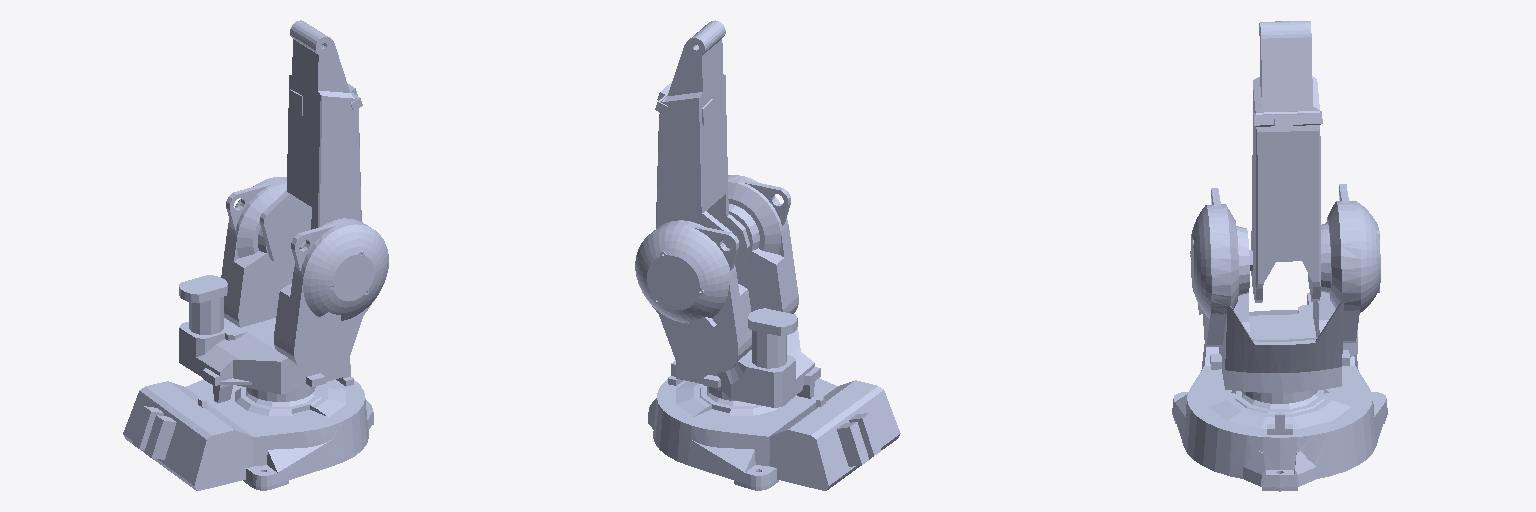
The robot description file, URDF, robot "Exp4a":
<?xml version="1.0" encoding="utf-8"?>
<!-- This URDF was automatically created by SolidWorks to URDF Exporter! Originally created by [author] ([email redacted]) 
     Commit Version: 1.5.1-0-g916b5db  Build Version: 1.5.7152.31018
     For more information, please see http://wiki.ros.org/sw_urdf_exporter -->
<robot
  name="Exp4a">
  <link
    name="base_link">
    <inertial>
      <origin
        xyz="-0.0942482366980368 0.00034841181543606 0.0698252025045274"
        rpy="0 0 0" />
      <mass
        value="45.100751124013" />
      <inertia
        ixx="0.904395771792202"
        ixy="0.00553474911760541"
        ixz="0.02398152767563"
        iyy="1.65416974621034"
        iyz="-0.000559853203844208"
        izz="2.38903477327703" />
    </inertial>
    <visual>
      <origin
        xyz="0 0 0"
        rpy="0 0 0" />
      <geometry>
        <mesh
          filename="package://Exp4a/meshes/base_link.STL" />
      </geometry>
      <material
        name="">
        <color
          rgba="0.792156862745098 0.819607843137255 0.933333333333333 1" />
      </material>
    </visual>
    <collision>
      <origin
        xyz="0 0 0"
        rpy="0 0 0" />
      <geometry>
        <mesh
          filename="package://Exp4a/meshes/base_link.STL" />
      </geometry>
    </collision>
  </link>
  <link
    name="Swivel">
    <inertial>
      <origin
        xyz="0.0338387160019819 0.0183002939600045 0.274868903694973"
        rpy="0 0 0" />
      <mass
        value="47.9939858945412" />
      <inertia
        ixx="2.26462021835913"
        ixy="0.104482896195246"
        ixz="-0.357348245737225"
        iyy="1.75194669684452"
        iyz="0.0193195705611302"
        izz="1.63365848320273" />
    </inertial>
    <visual>
      <origin
        xyz="0 0 0"
        rpy="0 0 0" />
      <geometry>
        <mesh
          filename="package://Exp4a/meshes/Swivel.STL" />
      </geometry>
      <material
        name="">
        <color
          rgba="0.792156862745098 0.819607843137255 0.933333333333333 1" />
      </material>
    </visual>
    <collision>
      <origin
        xyz="0 0 0"
        rpy="0 0 0" />
      <geometry>
        <mesh
          filename="package://Exp4a/meshes/Swivel.STL" />
      </geometry>
    </collision>
  </link>
  <joint
    name="Joint1"
    type="continuous">
    <origin
      xyz="0 0 0.164"
      rpy="0 0 0.068596" />
    <parent
      link="base_link" />
    <child
      link="Swivel" />
    <axis
      xyz="0 0 1" />
    <!-- <limit
      lower="-2.3562"
      upper="2.3562"
      effort="10"
      velocity="2.618" /> -->
  </joint>
  <link
    name="Arm">
    <inertial>
      <origin
        xyz="0.0508731045196118 0.00746958193207304 0.321534281626339"
        rpy="0 0 0" />
      <mass
        value="15.892970415351" />
      <inertia
        ixx="0.642112396550128"
        ixy="0.00117650675403156"
        ixz="0.023464167733746"
        iyy="0.630494054637527"
        iyz="0.000756305686730419"
        izz="0.0852091581783339" />
    </inertial>
    <visual>
      <origin
        xyz="0 0 0"
        rpy="0 0 0" />
      <geometry>
        <mesh
          filename="package://Exp4a/meshes/Arm.STL" />
      </geometry>
      <material
        name="">
        <color
          rgba="0.792156862745098 0.819607843137255 0.933333333333333 1" />
      </material>
    </visual>
    <collision>
      <origin
        xyz="0 0 0"
        rpy="0 0 0" />
      <geometry>
        <mesh
          filename="package://Exp4a/meshes/Arm.STL" />
      </geometry>
    </collision>
  </link>
  <joint
    name="Joint2"
    type="revolute">
    <origin
      xyz="0.1 0 0.44"
      rpy="0 0.024043 0" />
    <parent
      link="Swivel" />
    <child
      link="Arm" />
    <axis
      xyz="0 1 0" />
    <limit
      lower="-1.7453"
      upper="1.9198"
      effort="10"
      velocity="2.618" />
  </joint>
  <gazebo reference="Swivel">
        <mu1 value="200.0"/>
        <mu2 value="100.0"/>
        <kp value="10000000.0" />
        <kd value="1.0" />
        <material>Gazebo/Grey</material>
        </gazebo>
  <transmission name="Swivel_trans">
        <type>transmission_interface/SimpleTransmission</type>
        <actuator name="Swivel_motor">
            <mechanicalReduction>1</mechanicalReduction>
        </actuator>
        <joint name="Joint1">
            <hardwareInterface>hardware_interface/PositionJointInterface</hardwareInterface>
        </joint>
  </transmission>
  <gazebo>
    <plugin name="gazebo_ros_control" filename="libgazebo_ros_control.so">
      <!-- <robotNamespace>/rov_controller_ns</robotNamespace> -->
    </plugin>
  </gazebo>
</robot>

--- Facts derived from the render (not from the file) ---
Views: 3 orthographic renders of the robot side by side, from view 1: azimuth 30°, elevation 25°; view 2: azimuth 150°, elevation 25°; view 3: azimuth 270°, elevation 25°.
Model Exp4a with 3 links and 2 joints (1 revolute, 1 continuous), rooted at base_link, posed all joints at 0.
Links seen in each view (by area): view 1: Swivel, base_link, Arm; view 2: Swivel, base_link, Arm; view 3: Swivel, base_link, Arm.
Link boxes in pixels (x1,y1,x2,y2): Swivel: (179,177,388,402); base_link: (123,364,373,490); Arm: (260,20,362,267); Swivel: (635,175,820,407); base_link: (648,360,900,490); Arm: (655,20,749,265); Swivel: (1190,184,1380,403); base_link: (1172,344,1387,491); Arm: (1249,21,1322,302).
Size in the robot's own frame: 0.7788 by 0.5993 by 1.35 metres.
Meshes: 3 distinct files referenced, 3 mesh visuals loaded (3 binary STL).
